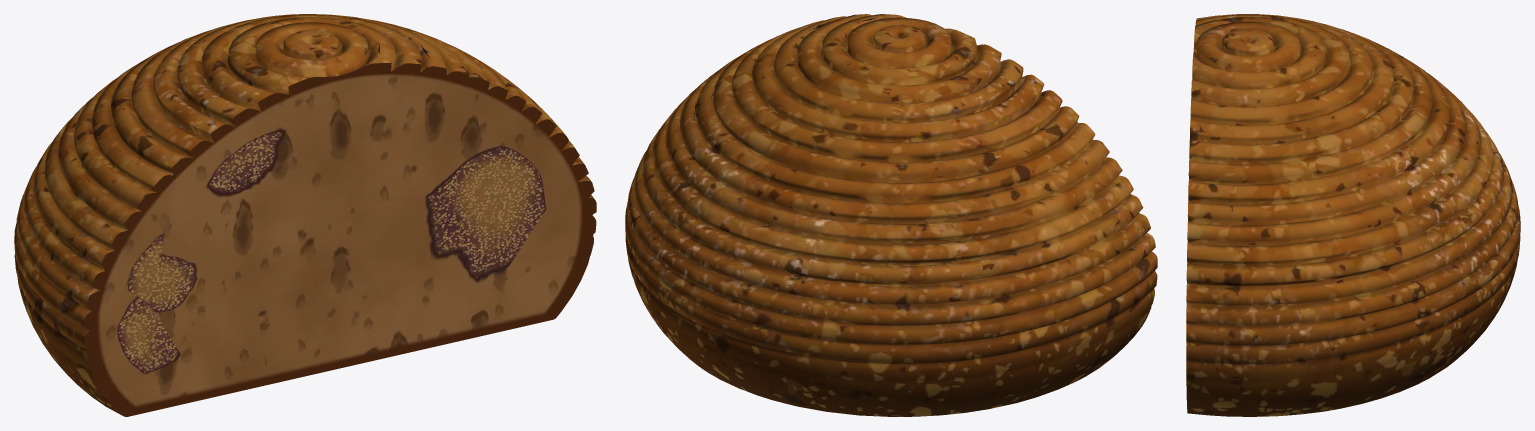
Rendered from wholewheat--fig-dried.glb.
The picture shows the model from 3 angles, left to right: view 1: azimuth 30°, elevation 25°; view 2: azimuth 150°, elevation 25°; view 3: azimuth 270°, elevation 25°; orthographic projection. The views are drawn at different scales.
Parts seen in each view (by area): view 1: wholewheat_fig-dried; view 2: wholewheat_fig-dried; view 3: wholewheat_fig-dried.
Part boxes in pixels (bbox=[...]): wholewheat_fig-dried: bbox=[14, 14, 596, 416]; wholewheat_fig-dried: bbox=[625, 14, 1157, 416]; wholewheat_fig-dried: bbox=[1186, 14, 1520, 416].
Size of the model in its own units: 0.9999 by 0.5691 by 0.6128.
Materials: 1 (1 with a texture image).
